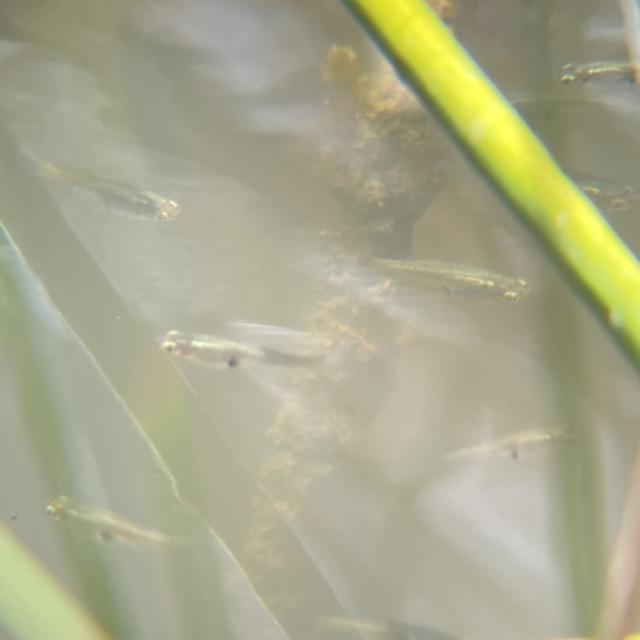Sivrisinek Baligi: (156, 312, 358, 412), (374, 230, 541, 330), (32, 477, 202, 570), (43, 141, 188, 244), (442, 403, 578, 478)
